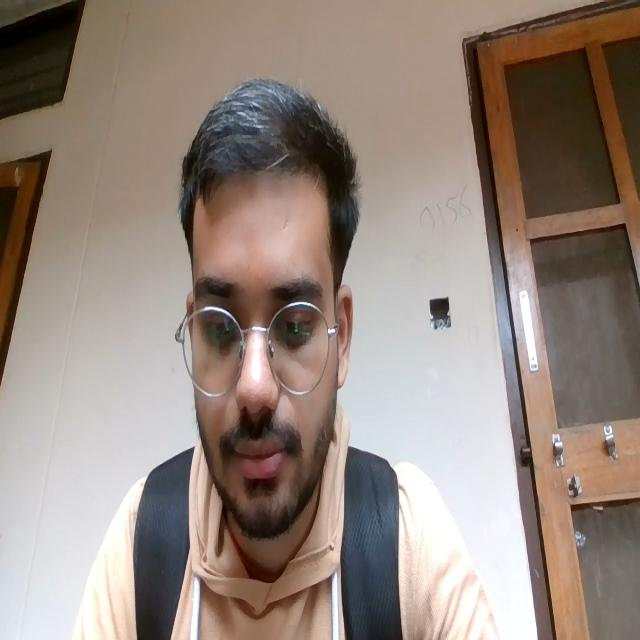drowsy: (185, 243, 332, 508)
